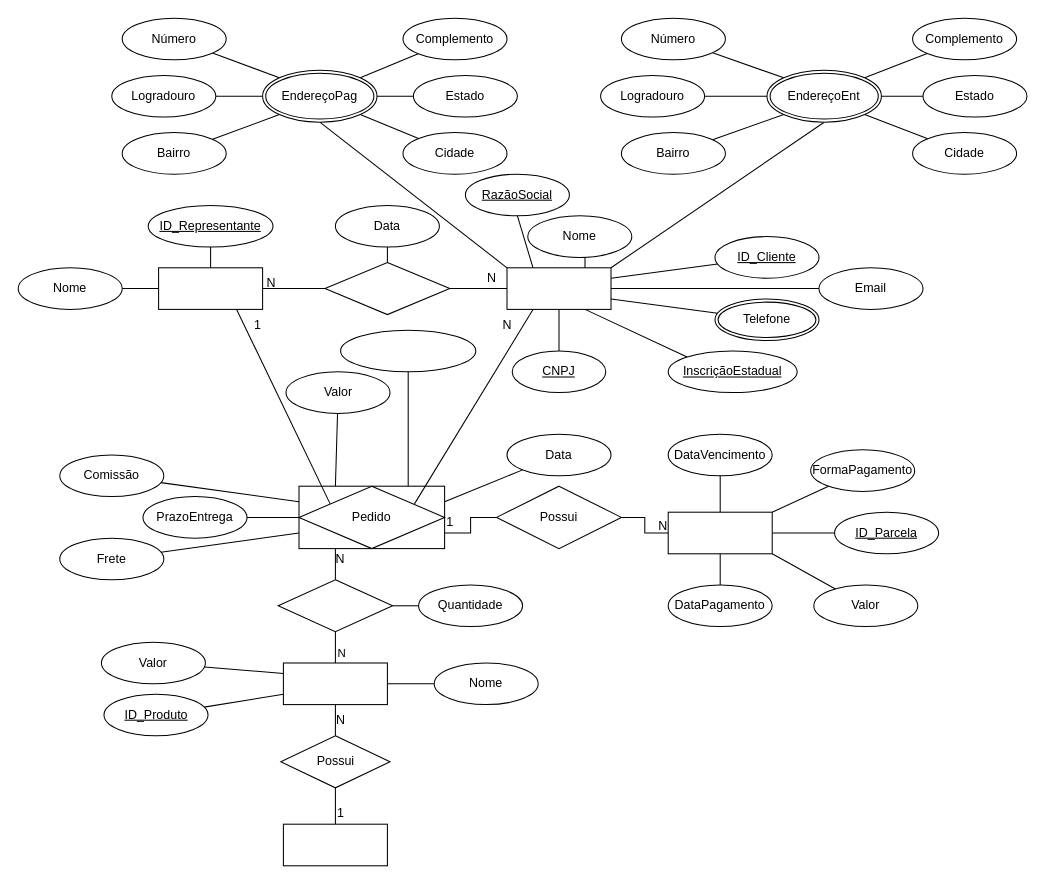
This 1045x884 diagram has some shape labels left out. The shapes that lost their labels are listed below. From the top down, each one's box as (x1, y1, x2, y2) in pixels, then its label:
(158, 267, 263, 309): Representante
(324, 262, 450, 315): Contato
(506, 267, 611, 309): Cliente
(340, 329, 476, 372): QuantidadeParcelas
(667, 511, 772, 554): Parcela
(277, 579, 393, 632): Itens
(282, 662, 387, 705): Produto
(282, 823, 387, 866): Tipo
